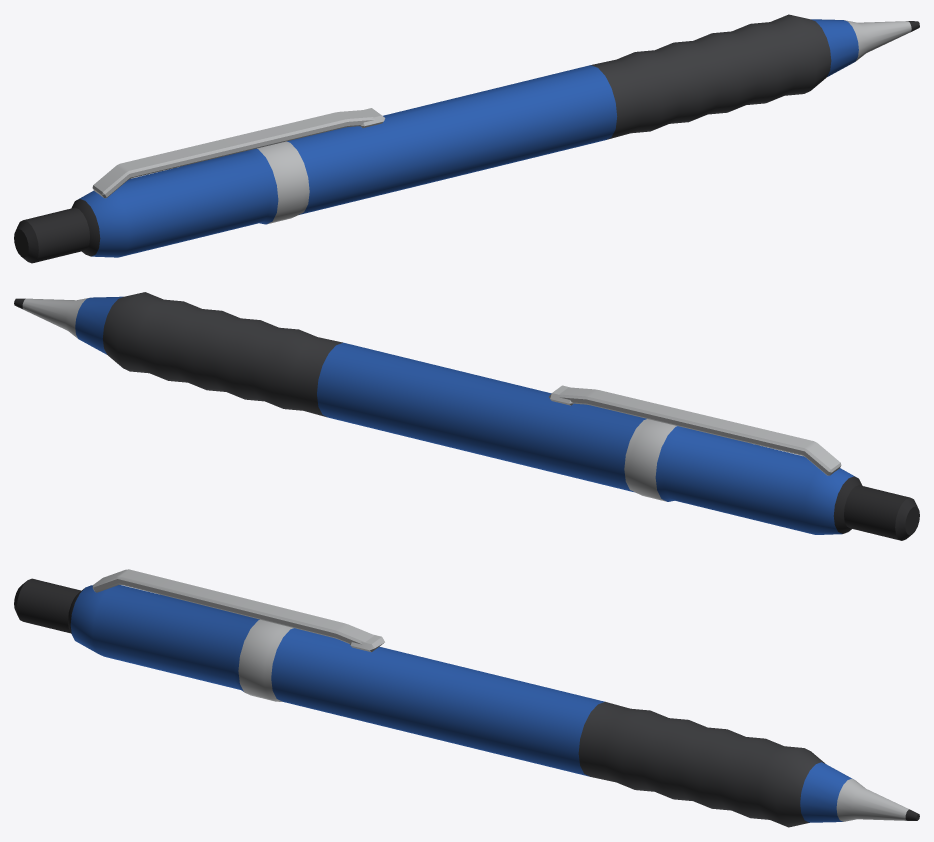
File: Pen.fbx
3 views of the same model, one above another, from view 1: azimuth 30°, elevation 25°; view 2: azimuth 150°, elevation 25°; view 3: azimuth 330°, elevation 25° (orthographic).
Parts seen in each view (by area): view 1: Pen_Mesh; view 2: Pen_Mesh; view 3: Pen_Mesh.
Boxes of the visible parts, left/top/right/bottom form: Pen_Mesh: left=14, top=14, right=919, bottom=263; Pen_Mesh: left=14, top=292, right=919, bottom=540; Pen_Mesh: left=14, top=569, right=919, bottom=827.
Size of the model in its own units: 0.14 by 0.0131 by 0.011.
